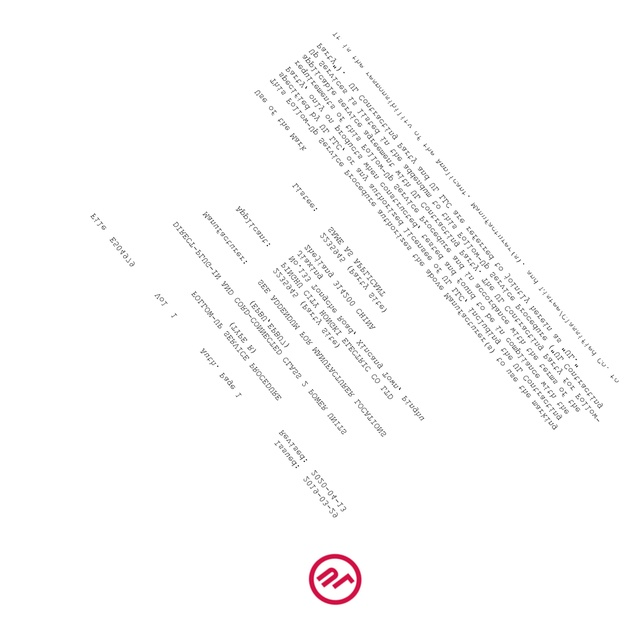ul: (309, 551, 365, 607)
